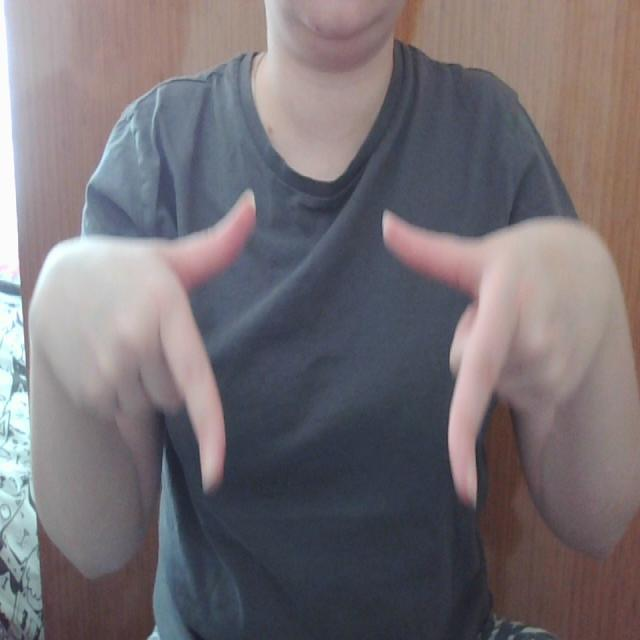Nerede: (146, 180, 528, 510)
